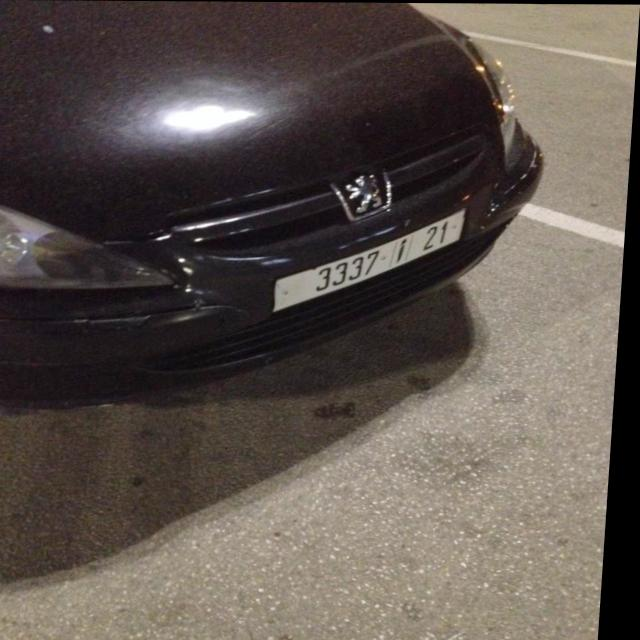License-Plate: (278, 211, 467, 310)
